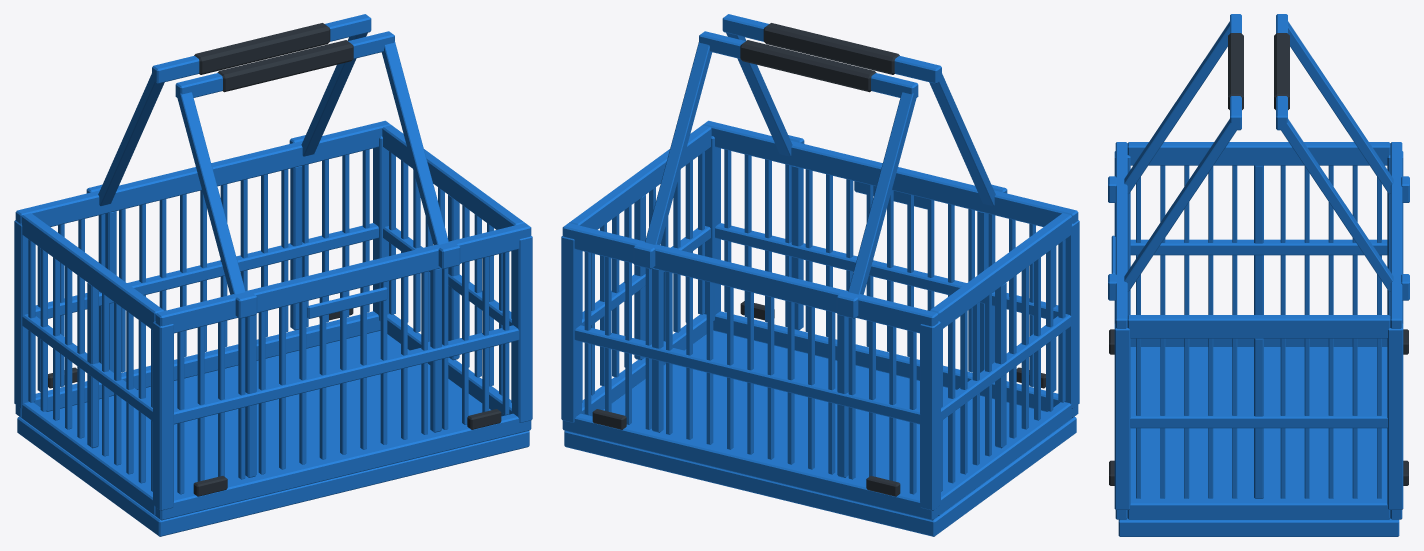
File: shopping-basket.glb
3 renders of one model, left to right at view 1: azimuth 30°, elevation 25°; view 2: azimuth 150°, elevation 25°; view 3: azimuth 270°, elevation 25°, orthographic.
Parts seen in each view (by area): view 1: BasketBody, HandleFront, HandleBack; view 2: BasketBody, HandleBack, HandleFront; view 3: BasketBody, HandleBack, HandleFront.
Part boxes in pixels (<box>): BasketBody: <box>14,120,532,536</box>; HandleFront: <box>175,31,460,318</box>; HandleBack: <box>86,14,371,205</box>; BasketBody: <box>561,120,1079,536</box>; HandleBack: <box>633,31,918,318</box>; HandleFront: <box>722,14,1007,205</box>; BasketBody: <box>1109,142,1408,536</box>; HandleBack: <box>1274,14,1409,300</box>; HandleFront: <box>1108,14,1243,300</box>.
Bounding box in the file's own units: 0.422 × 0.4235 × 0.301.
